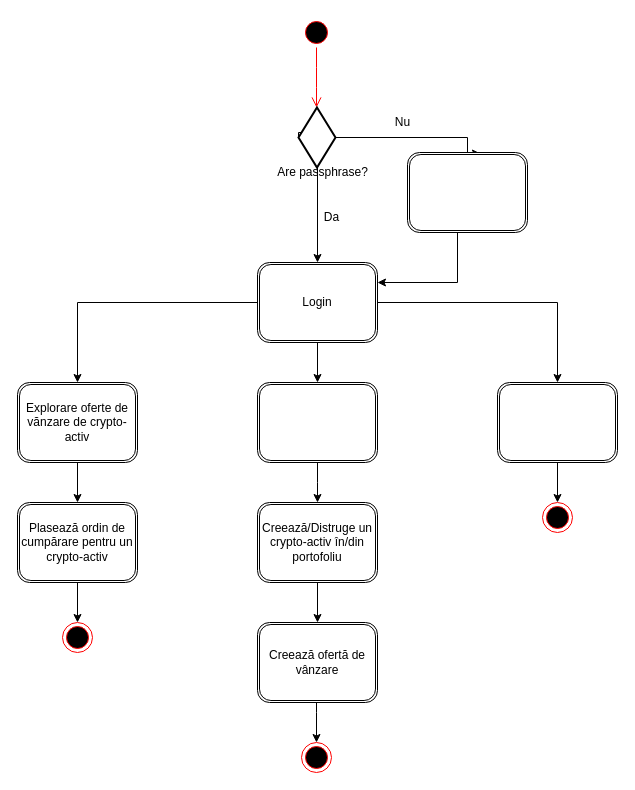
Image size: 635x790. Some labels were removed from this diagram. Here are the shapes that lost their labels. From the top down, the box of each, then its label:
(406, 152, 528, 232): Generează passphrase unic
(256, 382, 378, 462): Gestionare portofoliu propriu și oferte
(496, 382, 618, 462): Setări
